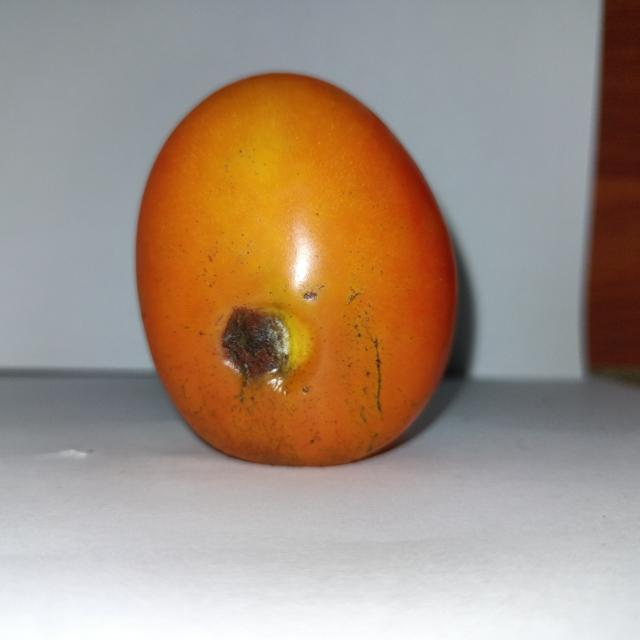Red: (133, 70, 459, 467)
